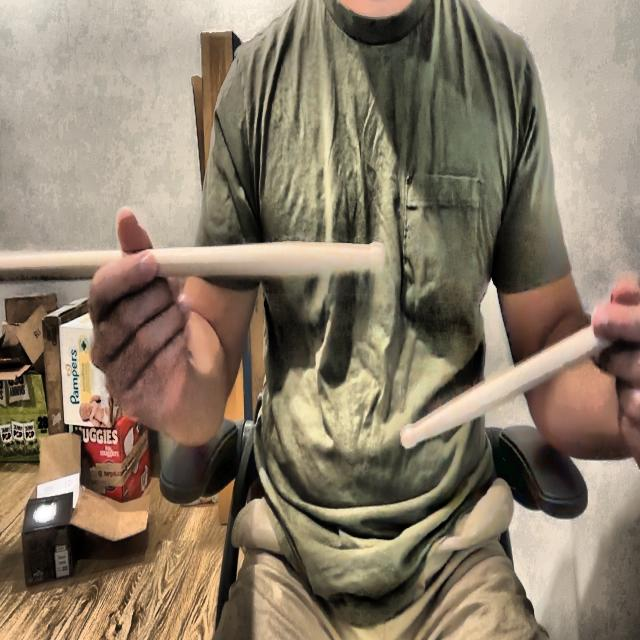Drumstick-Heads: (364, 235, 386, 271), (399, 417, 417, 453)
